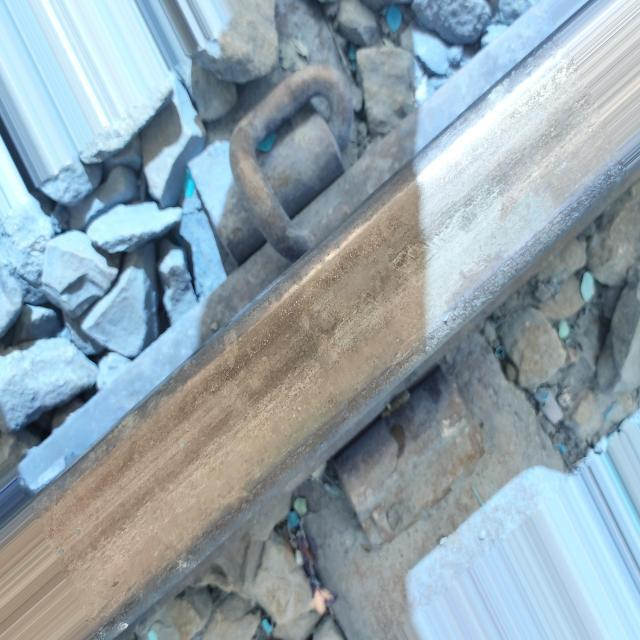Good Fasteners: (153, 49, 356, 266)
Missing Fastener: (320, 356, 501, 561)
